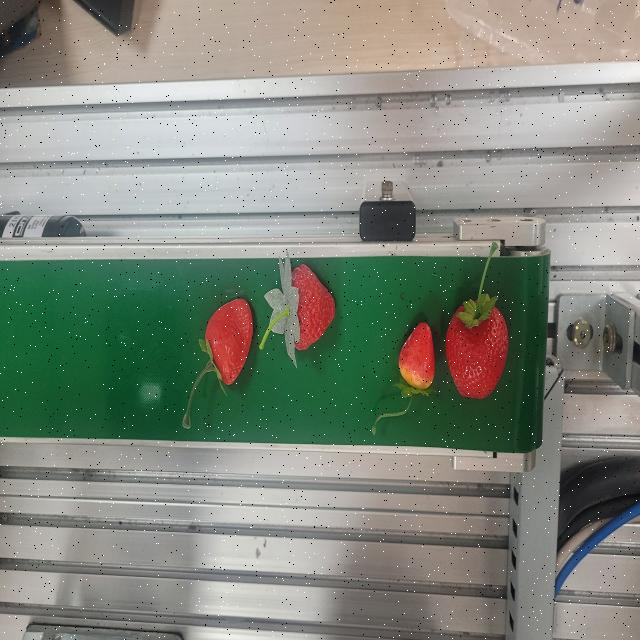Large Ripe Strawberry: (446, 292, 510, 406)
Small Ripe Strawberry: (274, 264, 340, 362), (202, 300, 258, 394)
Small Unripe Strawberry: (392, 322, 438, 399)
